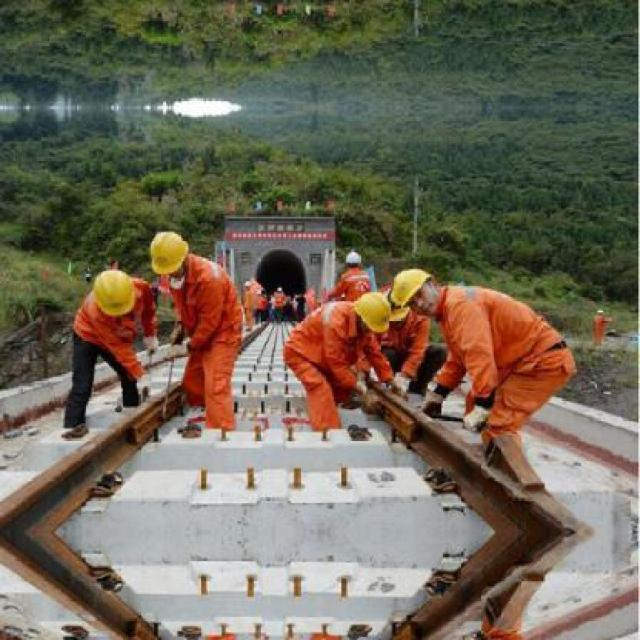Reflective-Jacket: (436, 279, 566, 383), (169, 256, 248, 364), (64, 292, 154, 385), (277, 298, 363, 388), (332, 268, 374, 300)
Safety-Helmet: (85, 264, 146, 322), (384, 262, 442, 316), (142, 226, 196, 282), (346, 288, 399, 340), (340, 248, 366, 270)
